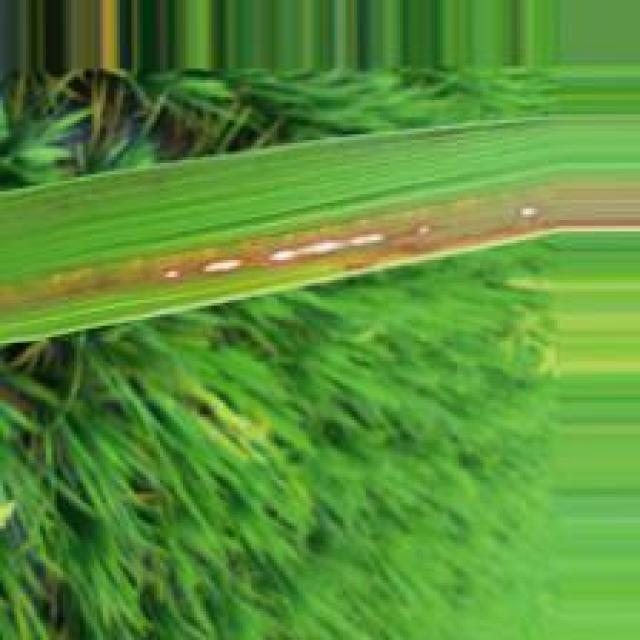Bacterial_Leaf_Blight: (0, 193, 536, 313)
